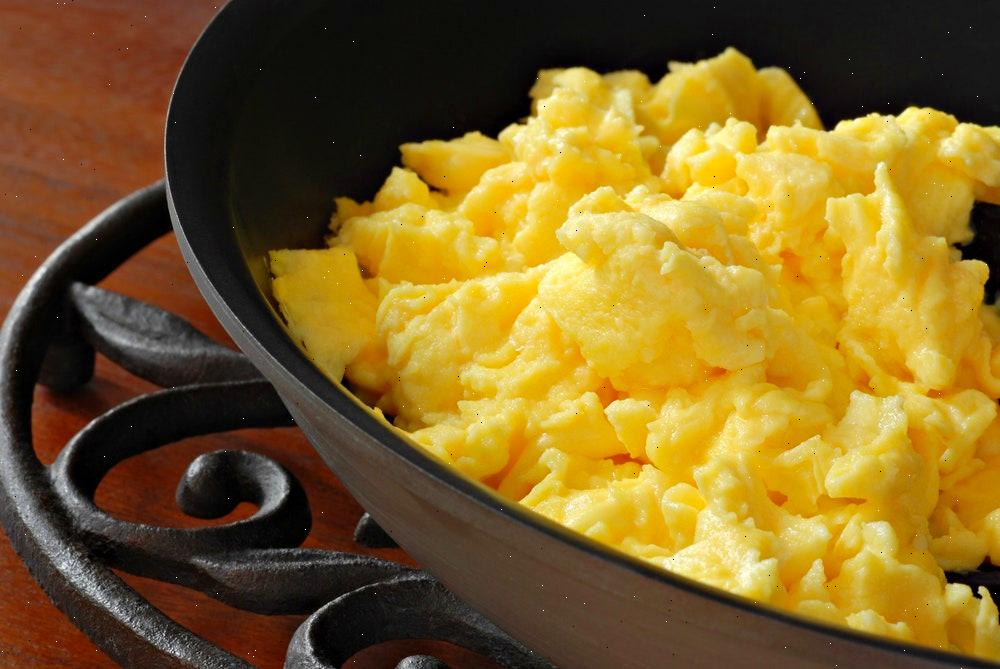eggs: (264, 26, 1000, 608)
